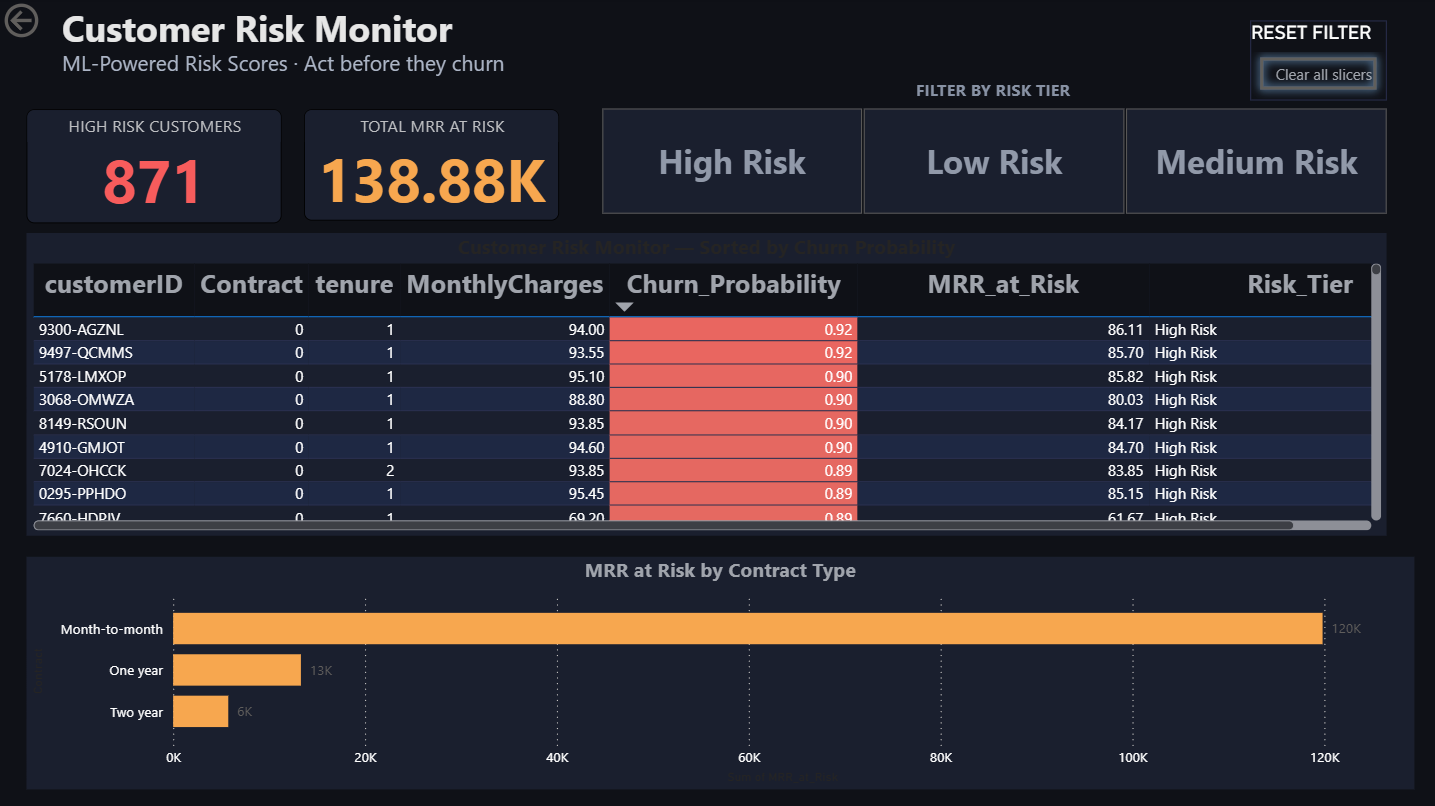

Layout of this report page (visuals, bound fields, positions):
{"tool":"powerbi","page":{"name":"Customer Risk Monitor","canvas":[1280,720],"ordinal":2},"visuals":[{"type":"card","title":"HIGH RISK CUSTOMERS","fields":{"Values":["customer_risk_scores.High Risk Count"]},"box":[24.4,99.4,227.3,101.5],"z":0},{"type":"card","title":"TOTAL MRR AT RISK","fields":{"Values":["customer_risk_scores.Total MRR at Risk"]},"box":[271.9,99.4,227.3,99.4],"z":1000},{"type":"slicer","title":"FILTER BY RISK TIER","fields":{"Values":["customer_risk_scores.Risk_Tier"]},"box":[511.4,71,748.8,127.8],"z":2000},{"type":"tableEx","title":"Customer Risk Monitor — Sorted by Churn Probability","fields":{"Values":["customer_risk_scores.customerID","customer_risk_scores.Contract","customer_risk_scores.tenure","customer_risk_scores.MonthlyCharges","customer_risk_scores.Churn_Probability","customer_risk_scores.MRR_at_Risk","customer_risk_scores.Risk_Tier"]},"box":[24.4,209,1211.4,269.9],"z":3000},{"type":"actionButton","box":[0,0,100,40],"z":4000},{"type":"clusteredBarChart","title":"MRR at Risk by Contract Type","fields":{"Category":["telco_churn.Contract"],"Y":["Sum(customer_risk_scores.MRR_at_Risk)"]},"box":[24.4,497.1,1235.8,207],"z":5000},{"type":"actionButton","title":"RESET FILTER","box":[1114,20.3,121.8,71],"z":6000},{"type":"textbox","box":[50.7,0,377.4,56.8],"z":7000},{"type":"textbox","box":[50.7,40.6,448.4,48.7],"z":8000}]}

Visuals, with their boxes in screenshot pixels (x1, y1, x2, y2), scaled from the page's 1280x720 canvas onto the 1435x806 screenshot:
"HIGH RISK CUSTOMERS" card: [27,111,282,225]
"TOTAL MRR AT RISK" card: [305,111,560,223]
"FILTER BY RISK TIER" slicer: [573,79,1413,223]
"Customer Risk Monitor — Sorted by Churn Probability" tableEx: [27,234,1385,536]
actionButton: [0,0,112,45]
"MRR at Risk by Contract Type" clusteredBarChart: [27,556,1413,788]
"RESET FILTER" actionButton: [1249,23,1385,102]
textbox: [57,0,480,64]
textbox: [57,45,560,100]
